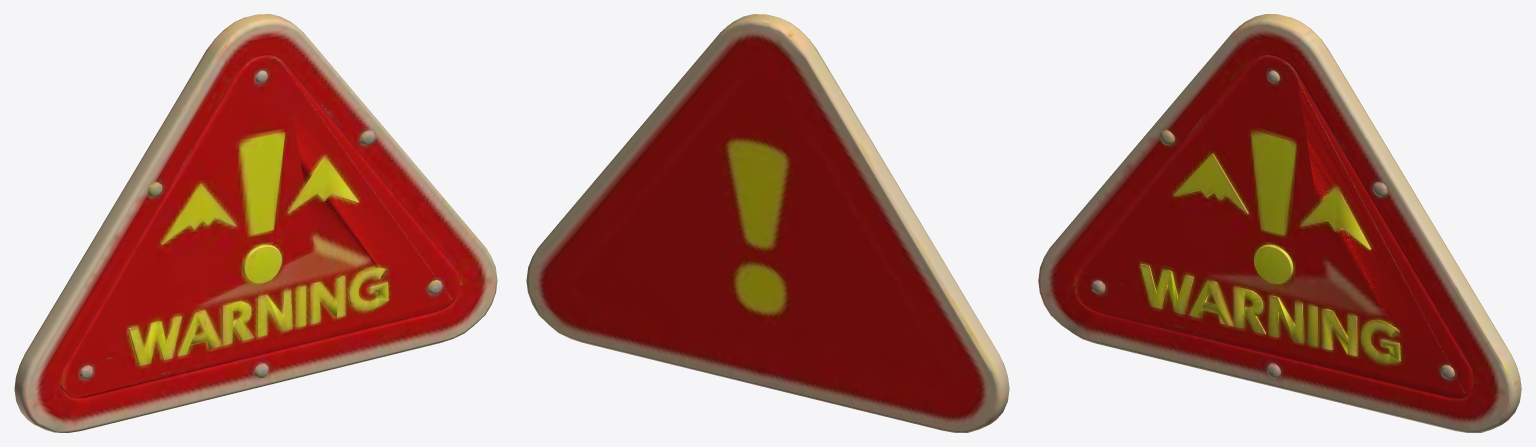
The model's file is safety_report.glb.
The picture shows the model from 3 angles, left to right: view 1: azimuth 30°, elevation 25°; view 2: azimuth 150°, elevation 25°; view 3: azimuth 330°, elevation 25°; orthographic projection.
Bounding box in the file's own units: 0.9565 × 0.7026 × 0.0488.
Materials: 1 (1 with a texture image).
